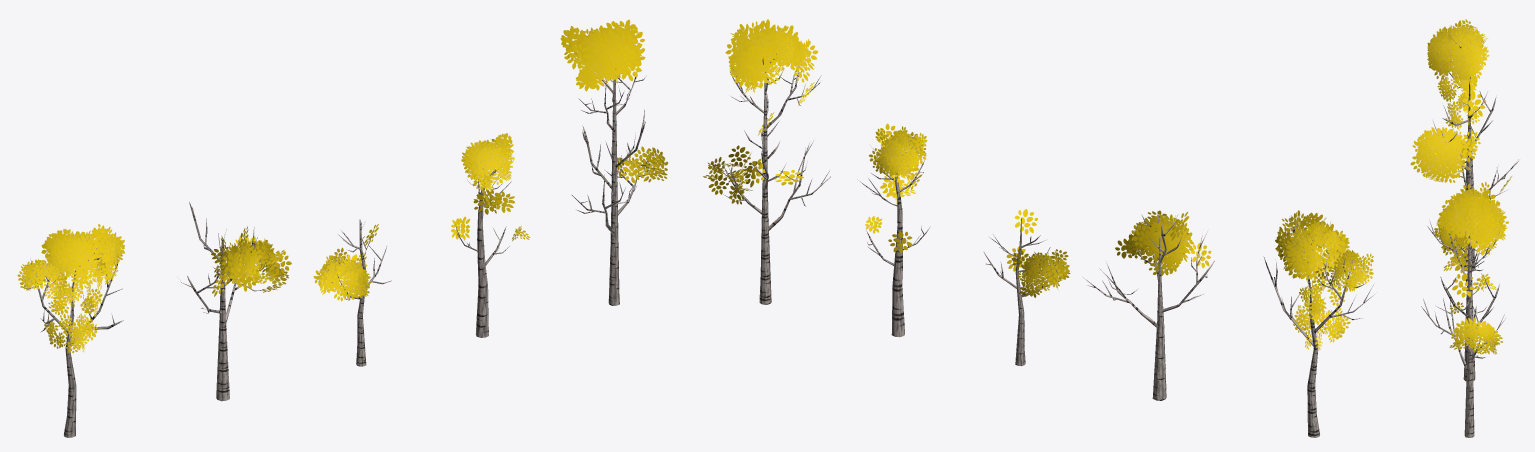
File: NAT_Birch_lod.glb
The picture shows the model from 3 angles, left to right: view 1: azimuth 30°, elevation 25°; view 2: azimuth 150°, elevation 25°; view 3: azimuth 270°, elevation 25°; orthographic projection. The views are drawn at different scales.
Parts seen in each view (by area): view 1: BirchTree_2, BirchTree_3, BirchTree_5, BirchTree_1, BirchTree_4; view 2: BirchTree_2, BirchTree_3, BirchTree_5, BirchTree_1, BirchTree_4; view 3: BirchTree_2, BirchTree_3, BirchTree_5, BirchTree_1, BirchTree_4.
Boxes of the visible parts, x1=… form: BirchTree_2: x1=560, y1=19, x2=668, y2=305; BirchTree_3: x1=17, y1=224, x2=124, y2=437; BirchTree_5: x1=180, y1=202, x2=291, y2=401; BirchTree_1: x1=451, y1=133, x2=530, y2=337; BirchTree_4: x1=313, y1=219, x2=391, y2=366; BirchTree_2: x1=703, y1=19, x2=830, y2=304; BirchTree_3: x1=1263, y1=210, x2=1374, y2=437; BirchTree_5: x1=1085, y1=210, x2=1214, y2=400; BirchTree_1: x1=860, y1=123, x2=930, y2=337; BirchTree_4: x1=984, y1=209, x2=1070, y2=366; BirchTree_2: x1=1421, y1=181, x2=1508, y2=437; BirchTree_3: x1=1427, y1=19, x2=1489, y2=193; BirchTree_5: x1=1410, y1=91, x2=1519, y2=271; BirchTree_1: x1=1434, y1=205, x2=1496, y2=381; BirchTree_4: x1=1441, y1=226, x2=1496, y2=323.
Size of the model in its own units: 18.55 by 7.57 by 3.19.
Materials: 2 (2 with a texture image).
